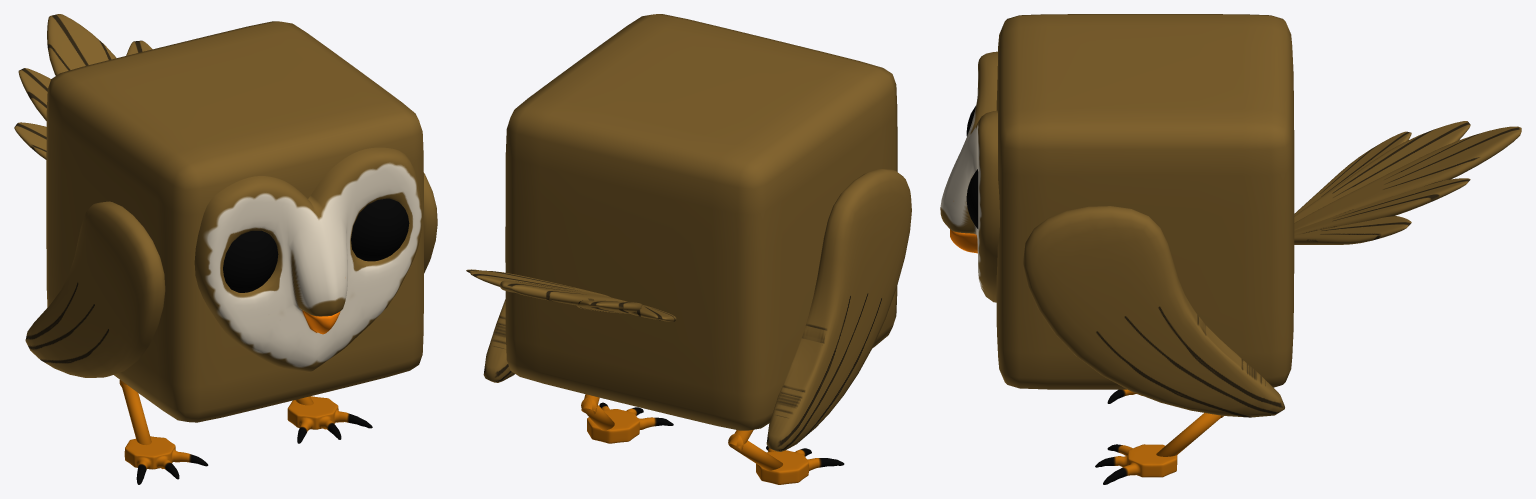
Rendered from owl.glb.
The picture shows the model from 3 angles, left to right: view 1: azimuth 30°, elevation 25°; view 2: azimuth 150°, elevation 25°; view 3: azimuth 270°, elevation 25°; orthographic projection. The views are drawn at different scales.
Visible parts, largest first — view 1: body; view 2: body; view 3: body.
Part boxes in pixels (x1=…): body: x1=14, y1=14, x2=437, y2=484; body: x1=466, y1=14, x2=911, y2=484; body: x1=940, y1=14, x2=1521, y2=484.
Size of the model in its own units: 2.38 by 2.66 by 3.89.
Materials: 7 (5 with a texture image).
